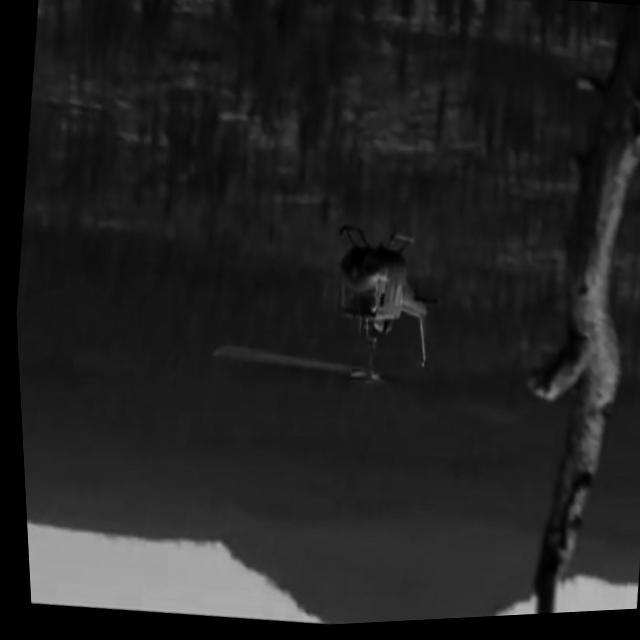helikopter: (223, 202, 455, 421)
